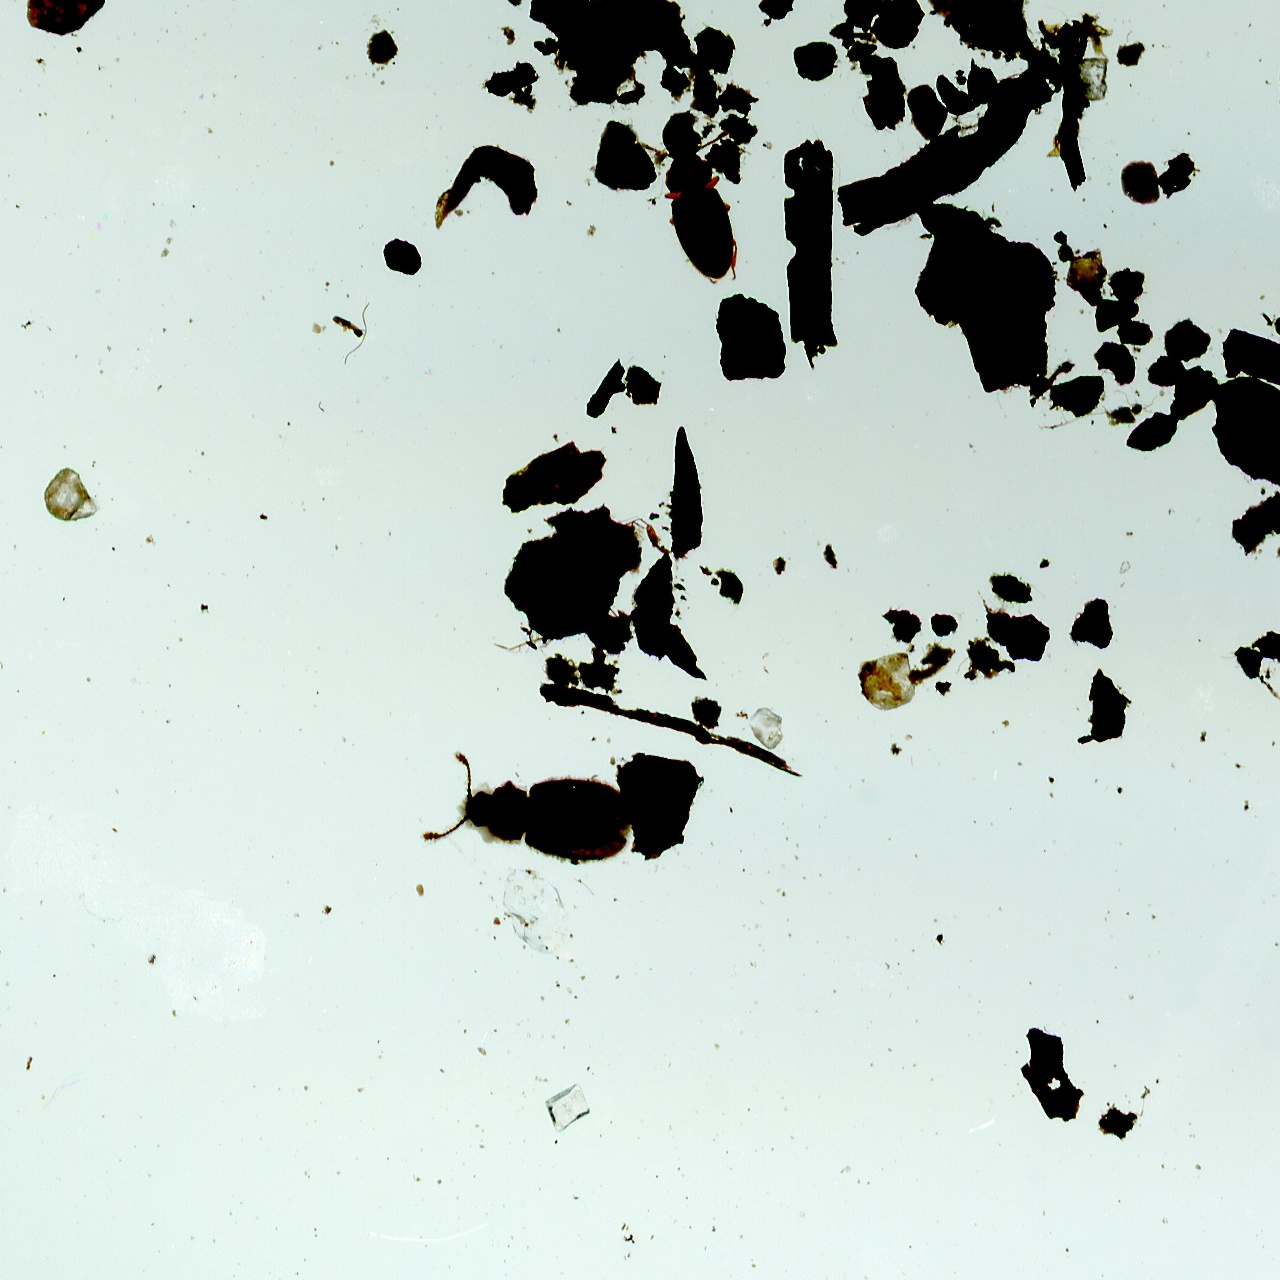arthropod: (415, 744, 636, 873), (625, 130, 760, 290)
